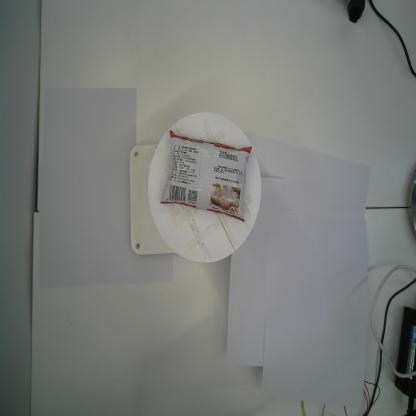Seasoner: (158, 126, 253, 228)
